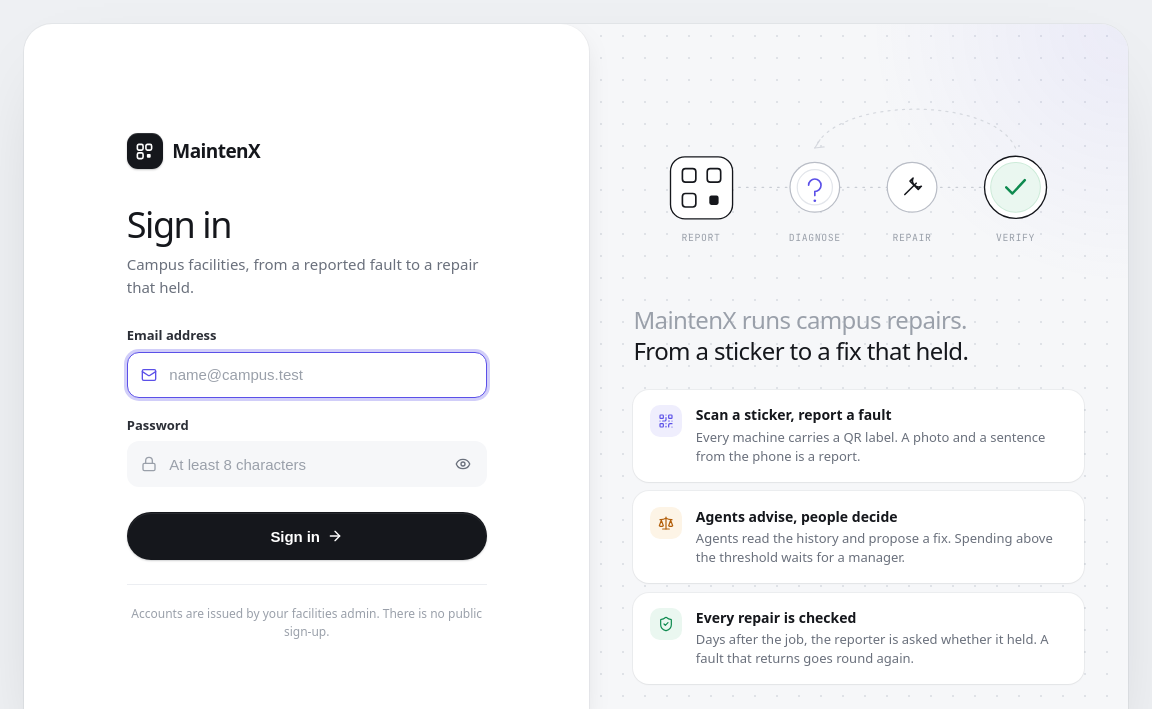
Test: LoginPage › shows both field errors and sends nothing when submitted empty
The image size is (1152, 709).
Click the button "Sign in": x=307, y=536 [127,512,487,560]
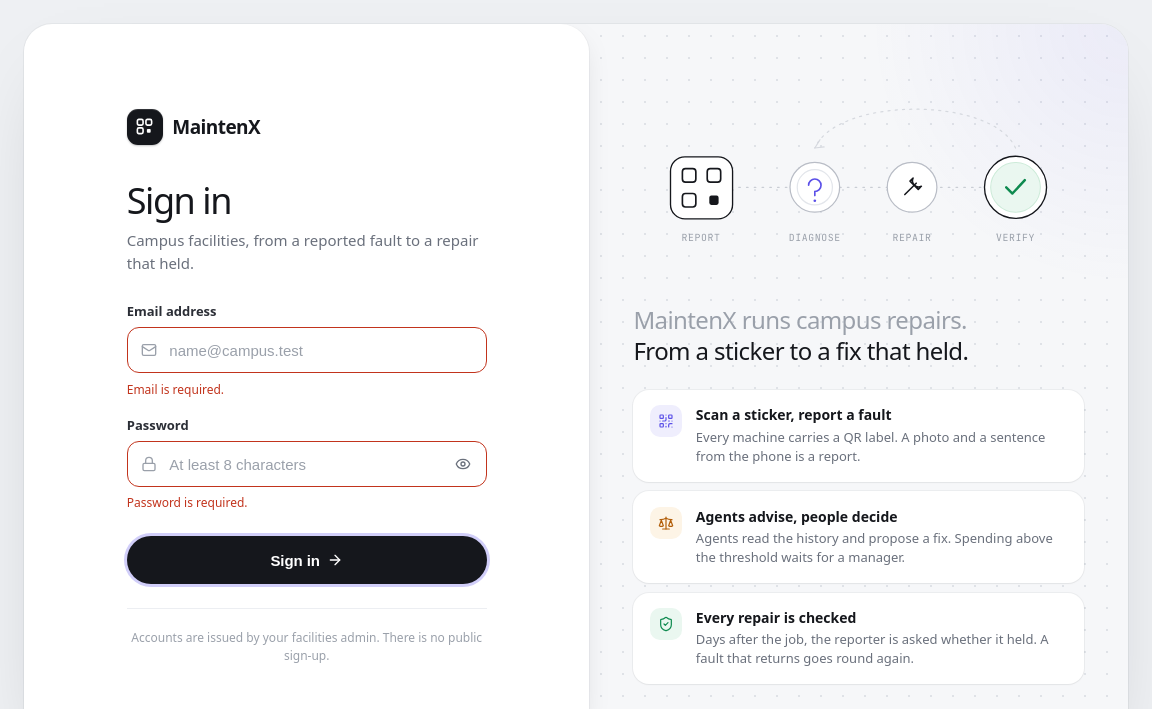
expect the text "Email is required." is shown: met, box [127,381,224,398]
expect the text "Password is required." is shown: met, box [127,494,248,511]
